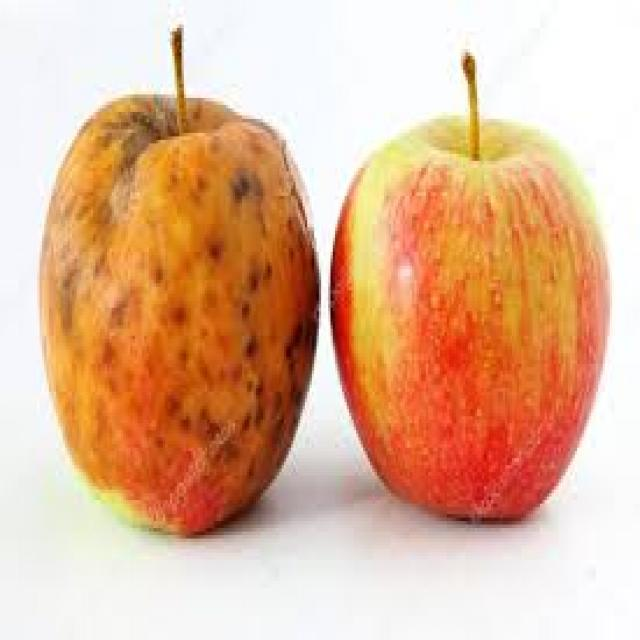organic waste: (40, 24, 314, 532), (328, 49, 610, 525)
